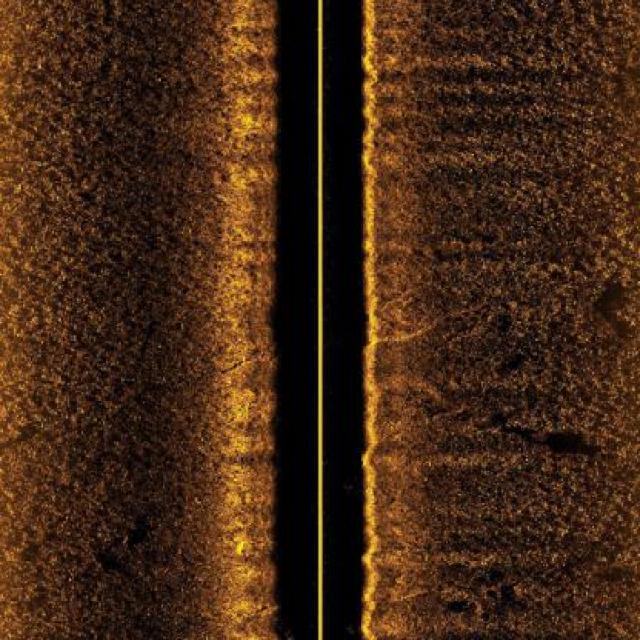other: (109, 535, 128, 543)
